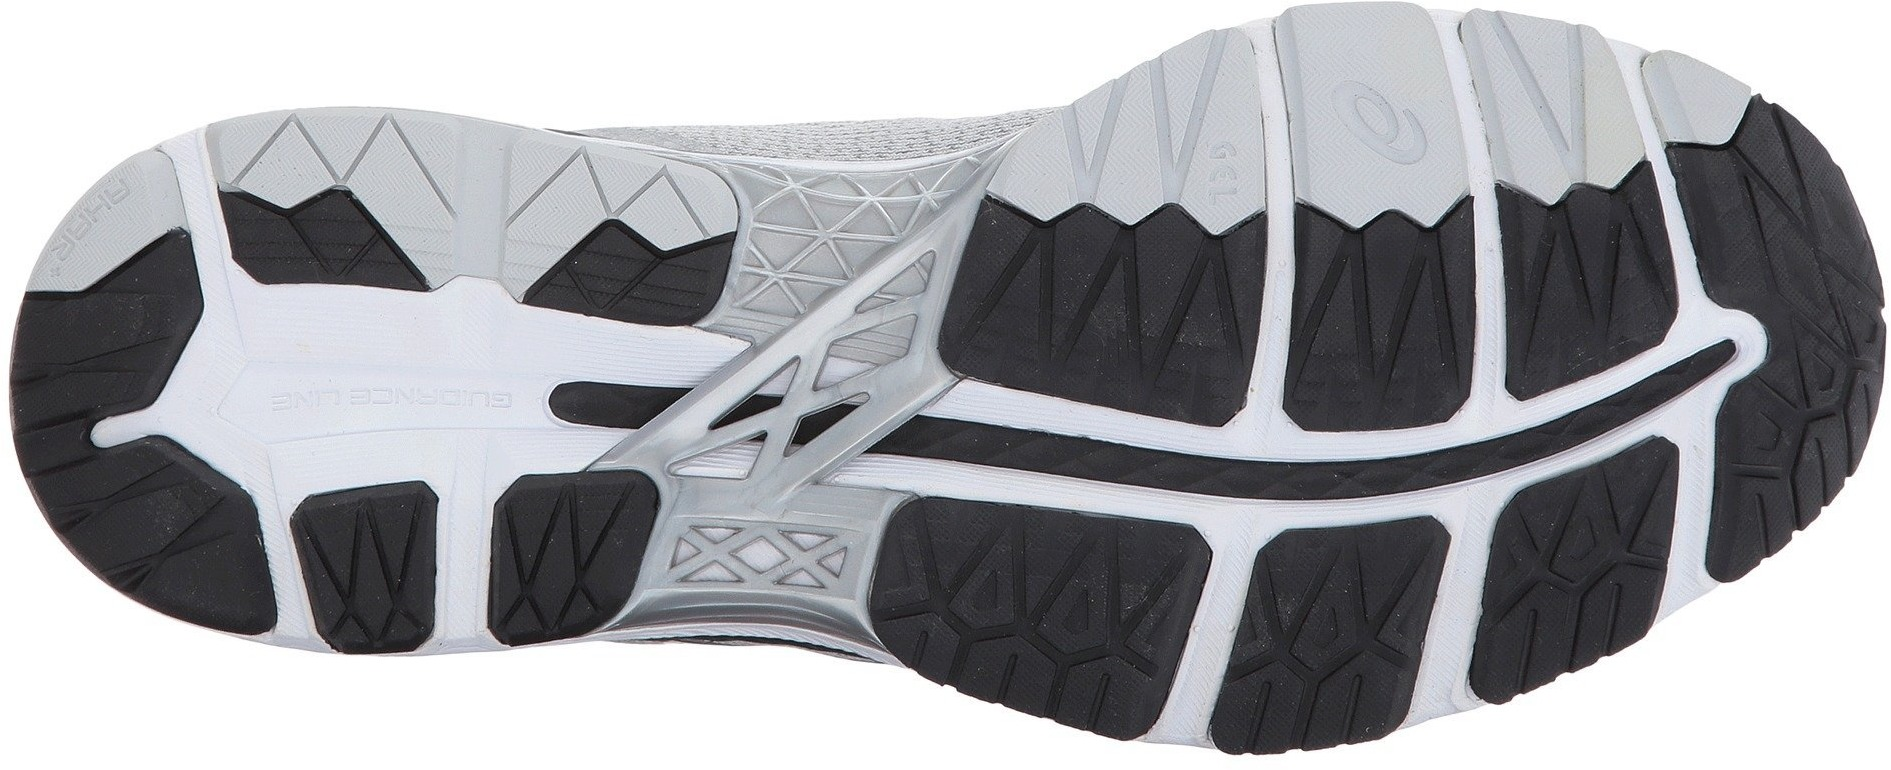chevron: (911, 496, 1165, 746), (493, 126, 747, 342), (1265, 192, 1494, 422), (1216, 519, 1459, 713), (1491, 173, 1691, 371), (1487, 455, 1674, 640), (242, 112, 432, 291), (488, 480, 639, 622), (1315, 56, 1448, 176)
polygon: (760, 196, 919, 338)
quad: (911, 496, 1165, 746), (493, 126, 747, 342), (1265, 192, 1494, 422), (1216, 519, 1459, 713), (1491, 173, 1691, 371), (1487, 455, 1674, 640), (242, 112, 432, 291), (1102, 414, 1440, 511), (665, 509, 870, 624), (488, 480, 639, 622)
ribbon: (51, 264, 310, 527), (1605, 280, 1784, 465), (1102, 414, 1440, 511), (1122, 377, 1301, 552), (1401, 383, 1561, 527)
text: (1315, 56, 1448, 176), (35, 167, 137, 266), (352, 358, 443, 439), (264, 367, 349, 438), (443, 373, 515, 436), (1200, 132, 1254, 208)
triangle: (911, 496, 1165, 746), (493, 126, 747, 342), (1265, 192, 1494, 422), (1216, 519, 1459, 713), (681, 319, 888, 513), (1491, 173, 1691, 371), (1487, 455, 1674, 640), (242, 112, 432, 291), (1102, 414, 1440, 511), (665, 509, 870, 624), (760, 196, 919, 338), (488, 480, 639, 622)
